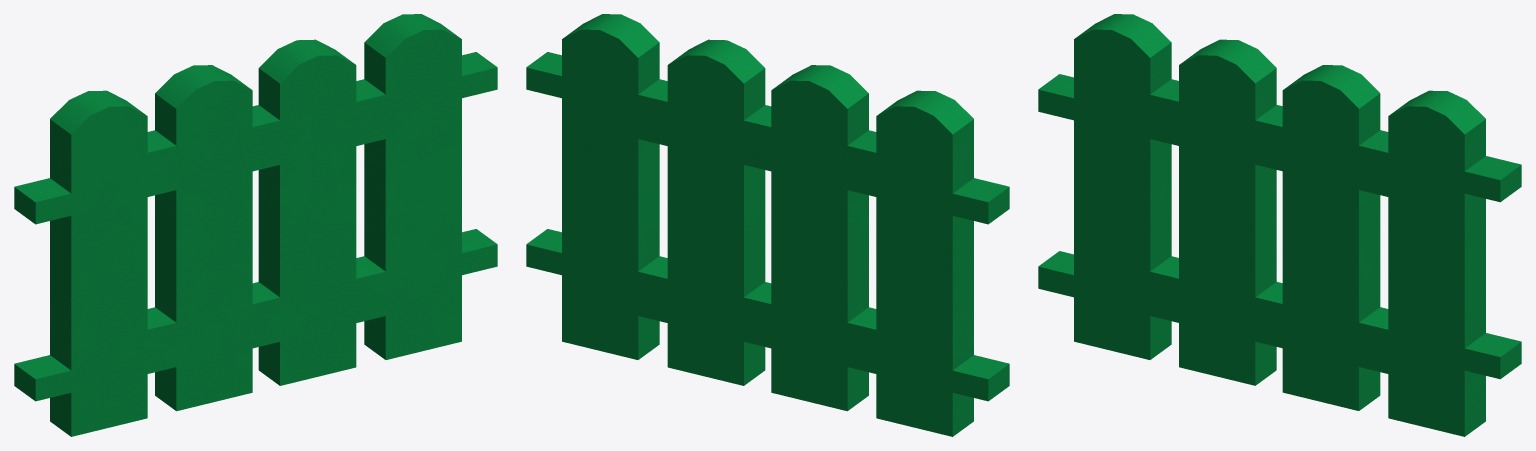
File: Fence_Green.glb
3 views of the same model, side by side, from view 1: azimuth 30°, elevation 25°; view 2: azimuth 150°, elevation 25°; view 3: azimuth 330°, elevation 25° (orthographic).
Visible parts, largest first — view 1: fenceHIGH; view 2: fenceHIGH; view 3: fenceHIGH.
Boxes of the visible parts, left/top/right/bottom form: fenceHIGH: left=14, top=14, right=497, bottom=436; fenceHIGH: left=526, top=14, right=1009, bottom=436; fenceHIGH: left=1038, top=14, right=1521, bottom=436.
Size of the model in its own units: 5.18 by 3.43 by 0.4139.
Materials: 1 (1 with a texture image).
